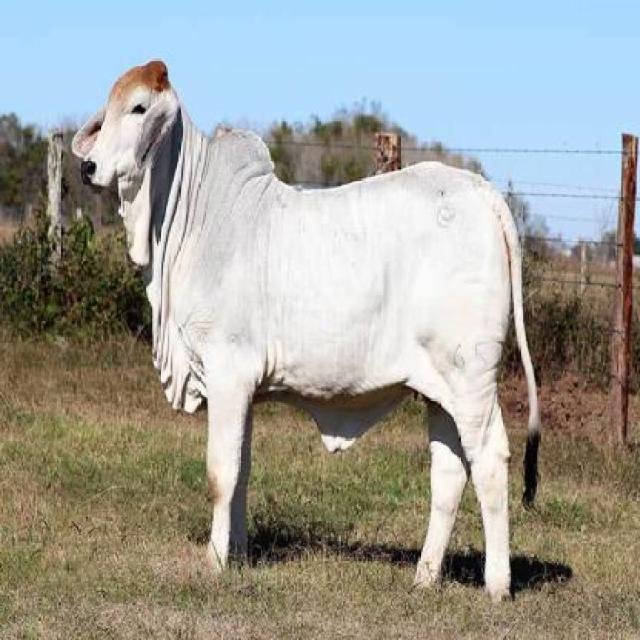Cow: (72, 60, 554, 609)
